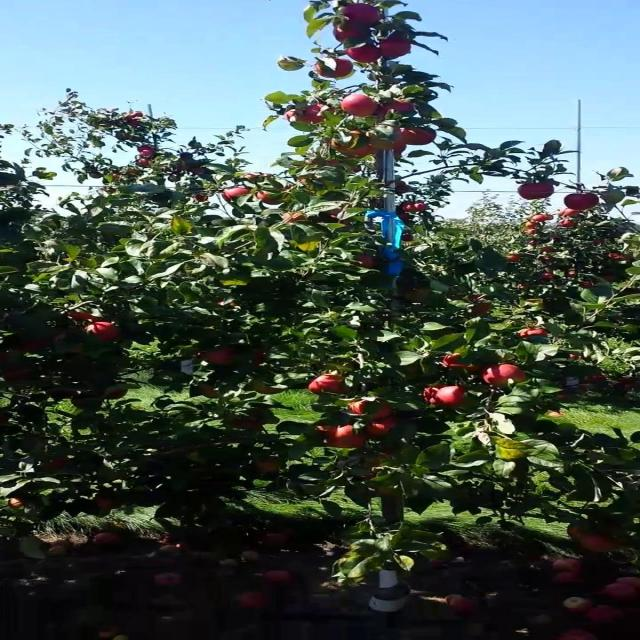apple: (483, 364, 528, 388), (340, 4, 384, 26), (326, 428, 370, 450), (348, 400, 395, 419), (369, 128, 405, 152), (291, 104, 332, 124), (340, 96, 379, 117), (319, 60, 356, 80), (312, 376, 350, 395), (568, 192, 604, 212), (84, 324, 123, 342), (404, 128, 439, 148), (333, 132, 364, 154), (348, 44, 382, 64), (56, 332, 85, 355), (333, 24, 368, 43), (369, 416, 400, 437), (198, 348, 236, 365), (518, 184, 555, 201), (440, 388, 471, 408), (582, 536, 617, 553), (383, 100, 418, 117), (383, 40, 412, 60), (305, 104, 332, 124), (447, 356, 480, 372), (255, 380, 286, 396), (518, 328, 553, 342), (13, 340, 48, 354), (404, 288, 434, 304), (6, 368, 36, 383), (42, 456, 71, 471), (262, 192, 290, 207), (468, 300, 492, 316), (227, 188, 254, 202), (70, 312, 103, 322), (326, 208, 348, 223), (198, 384, 219, 399), (355, 256, 379, 269), (355, 144, 377, 158), (99, 496, 119, 511), (284, 212, 308, 224), (426, 388, 441, 407), (212, 300, 240, 310), (106, 388, 128, 400), (262, 460, 281, 473), (234, 420, 261, 429), (568, 528, 588, 540), (319, 424, 343, 434), (404, 204, 427, 213), (390, 184, 412, 193), (255, 352, 268, 365), (13, 500, 25, 508)
